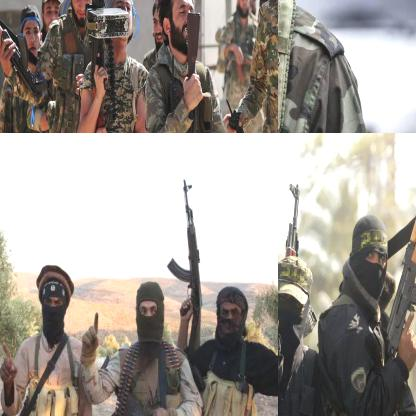rifle: (84, 0, 148, 132), (167, 178, 205, 358), (385, 141, 415, 361), (0, 0, 55, 111), (177, 9, 224, 132), (284, 181, 304, 264), (0, 81, 18, 132)
